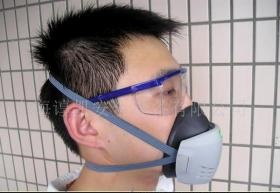face_mask: (113, 41, 202, 174)
